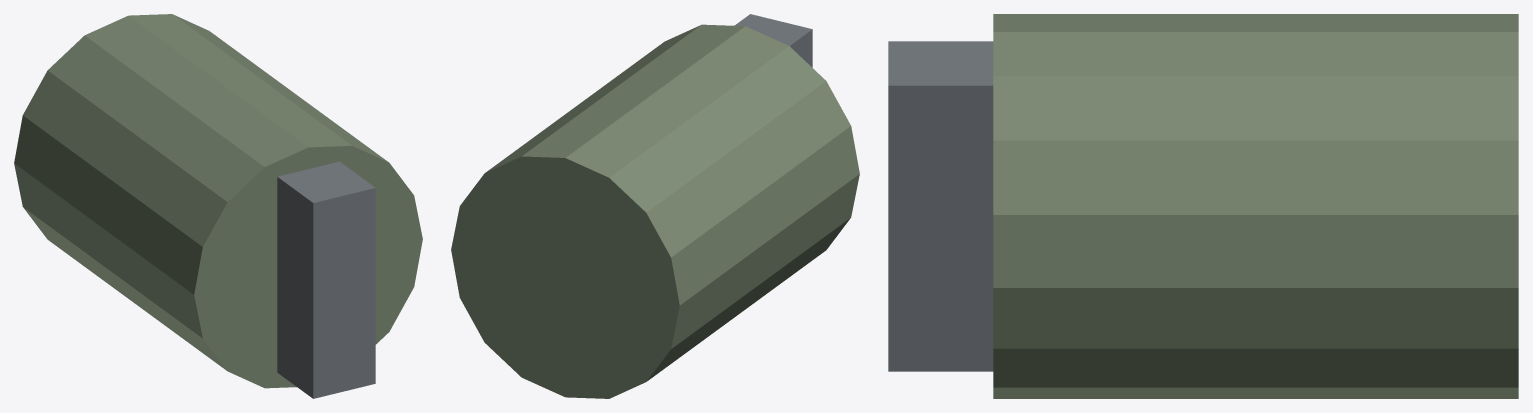
The model's file is frag_grenade.glb.
The picture shows the model from 3 angles, left to right: view 1: azimuth 30°, elevation 25°; view 2: azimuth 150°, elevation 25°; view 3: azimuth 270°, elevation 25°; orthographic projection. The views are drawn at different scales.
Visible parts, largest first — view 1: g0_body, g1_pin; view 2: g0_body, g1_pin; view 3: g0_body, g1_pin.
Part boxes in pixels (x1,y1,x2,y2): g0_body: (14, 14, 422, 388); g1_pin: (277, 161, 375, 398); g0_body: (451, 24, 859, 398); g1_pin: (735, 14, 812, 67); g0_body: (993, 14, 1518, 398); g1_pin: (888, 41, 993, 371).
Size of the model in its own units: 0.22 by 0.22 by 0.36.
